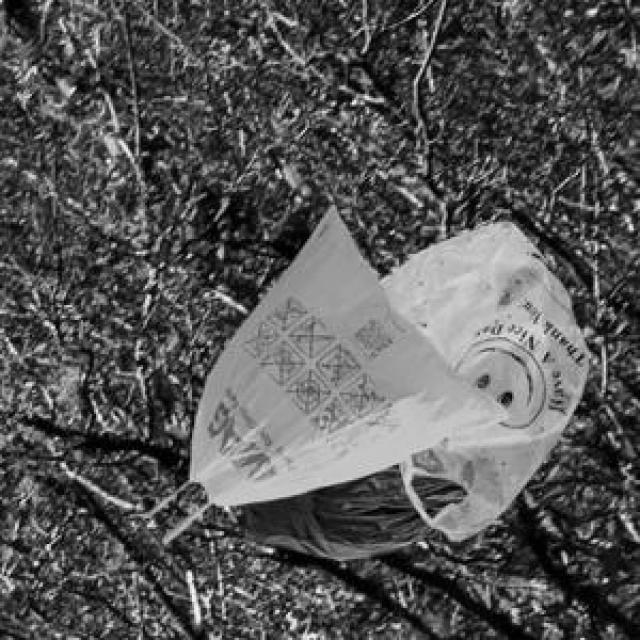miscellaneous trash: (376, 218, 585, 536), (239, 459, 473, 557)
